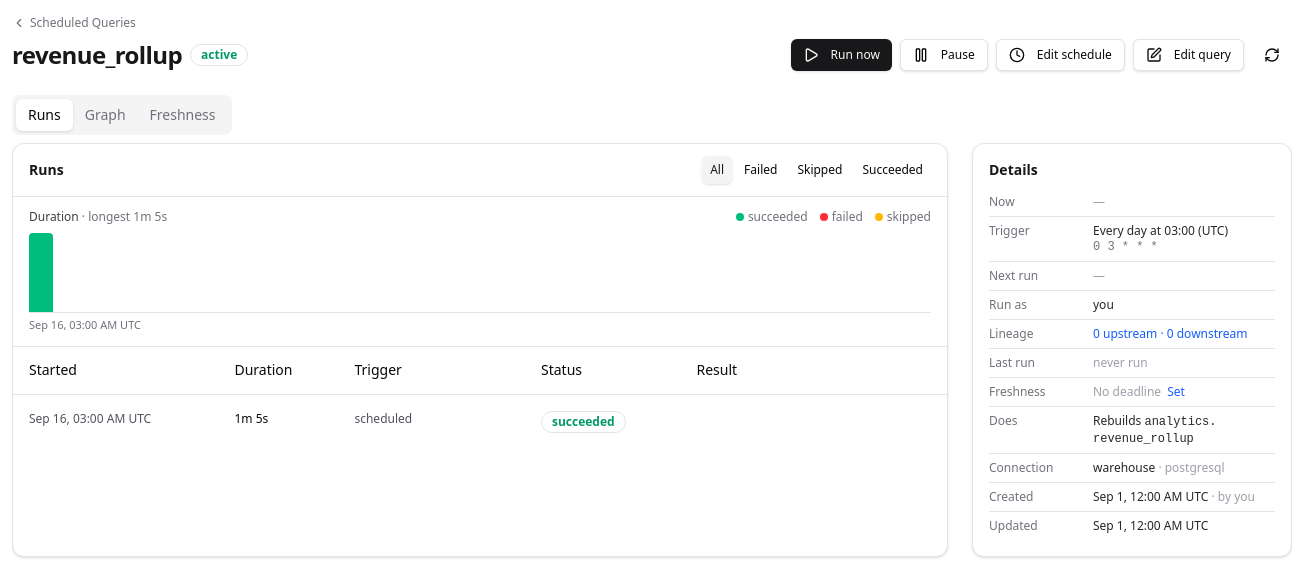
Scenario: per-model schedule page › opens on Runs, and choosing Graph shows the graph and puts the tab in the address
Expected: the table is shown, x1=13 y1=346 x2=947 y2=449
Expected: the text "lineage graph of revenue_rollup" is not shown
Click the tab "Graph" at (105, 115), box x1=73 y1=99 x2=138 y2=131
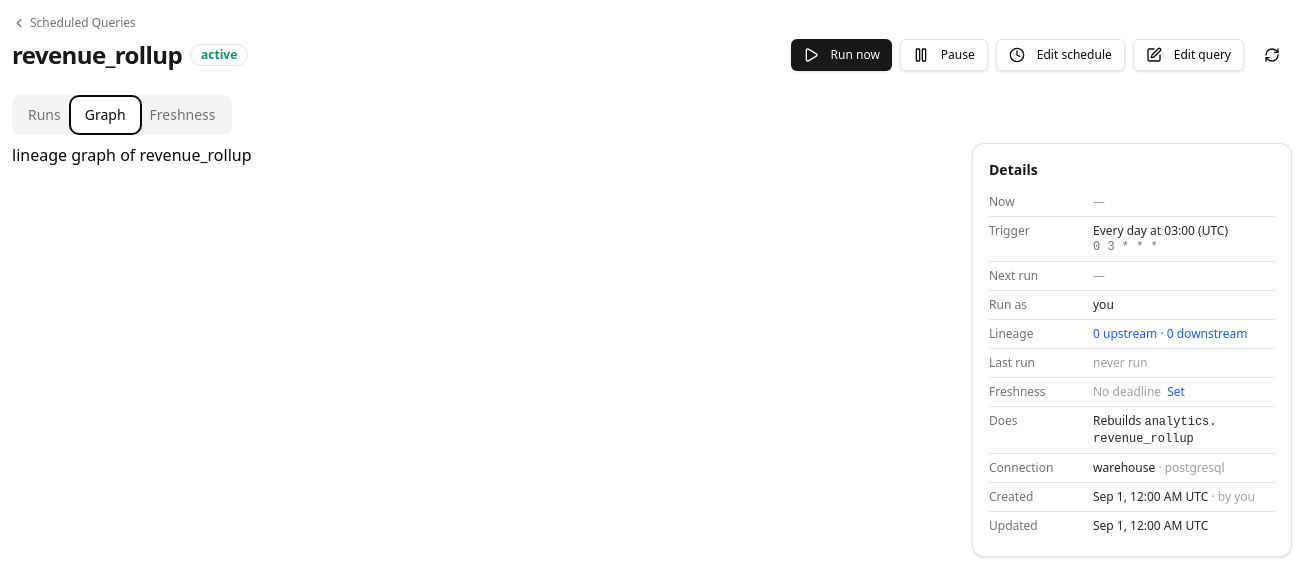
Now the text "lineage graph of revenue_rollup" is shown, box x1=12 y1=144 x2=252 y2=166
Now the table is gone
